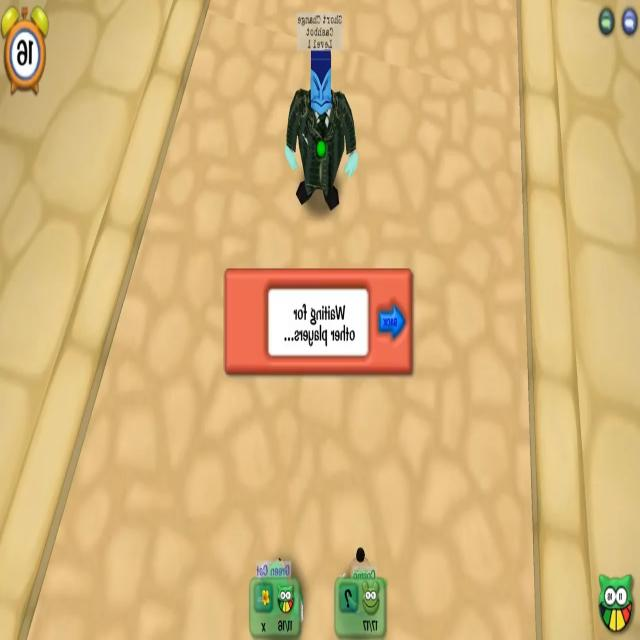shortchange: (285, 12, 355, 156)
